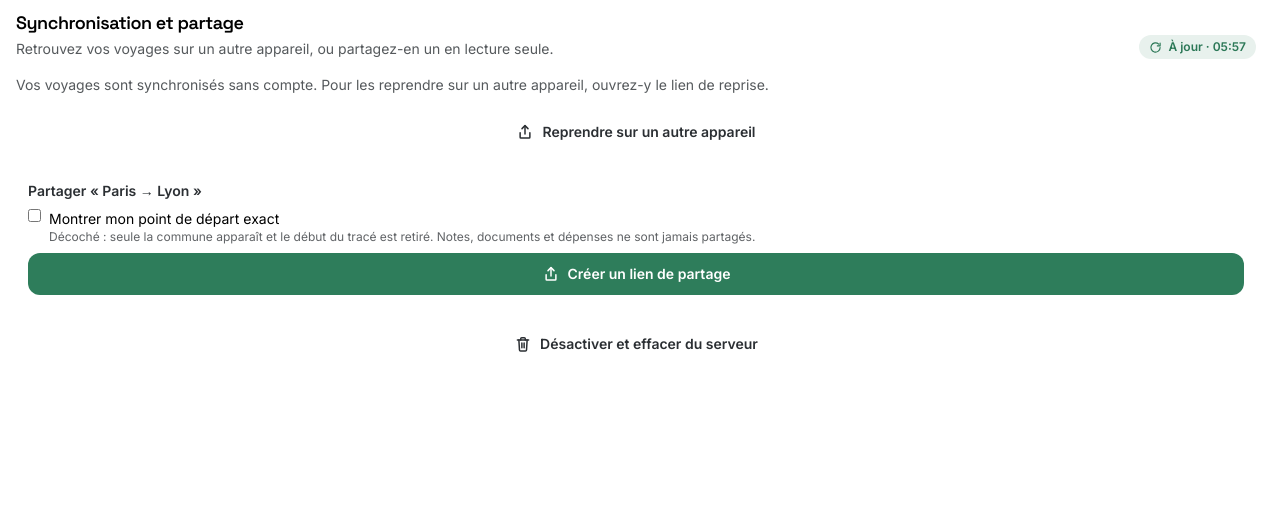
Test: SyncShareCard › sans compte : affiche le lien de reprise avec son avertissement
Click the button "Reprendre sur un autre appareil" at point(636, 132), box x1=16 y1=111 x2=1256 y2=153
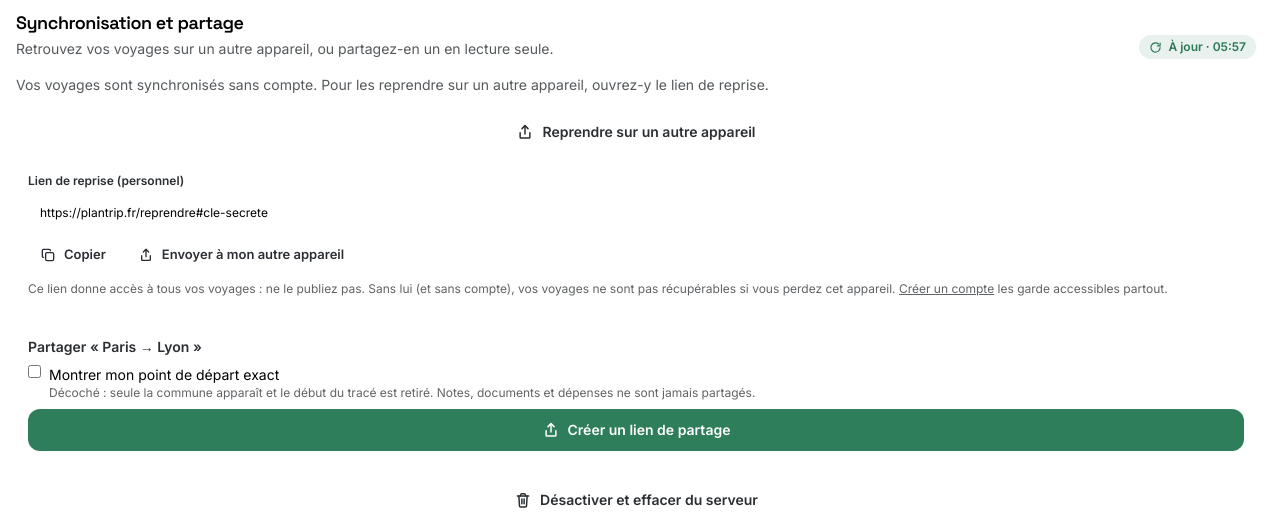
Now the element with test id "resume-link" shows "ne le publiez pas", box x1=28 y1=281 x2=896 y2=296
